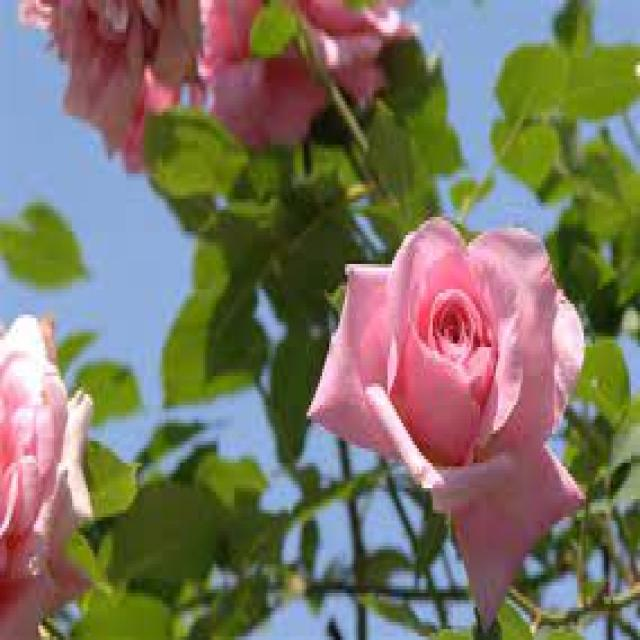rose: (320, 198, 586, 510)
